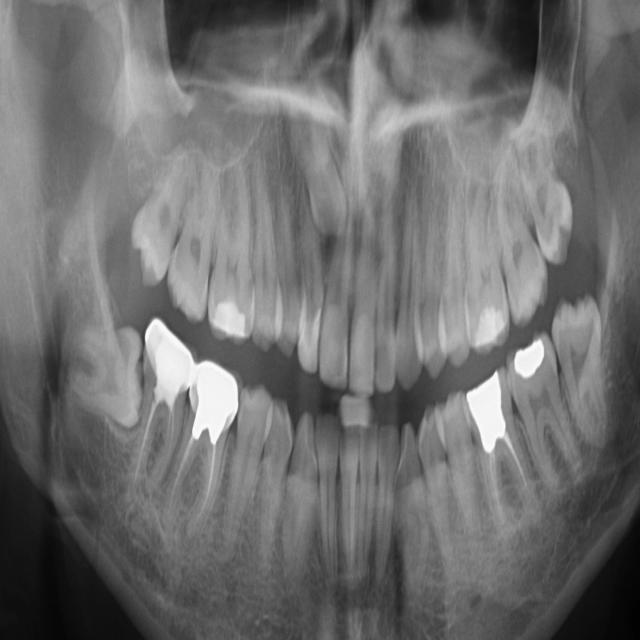dolgu: (203, 290, 253, 337), (509, 336, 551, 383), (459, 309, 508, 345)
kanal-tedavisi: (135, 382, 181, 512), (177, 402, 226, 523), (478, 426, 536, 521)
kaplama: (149, 319, 195, 401), (182, 359, 238, 426), (466, 374, 513, 446)
